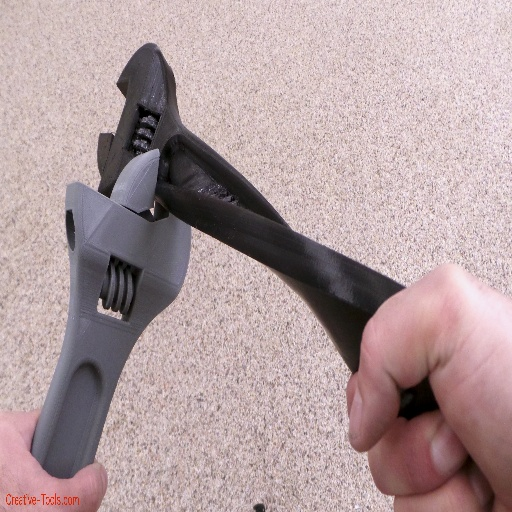hand: (329, 264, 512, 502), (0, 402, 107, 511)
